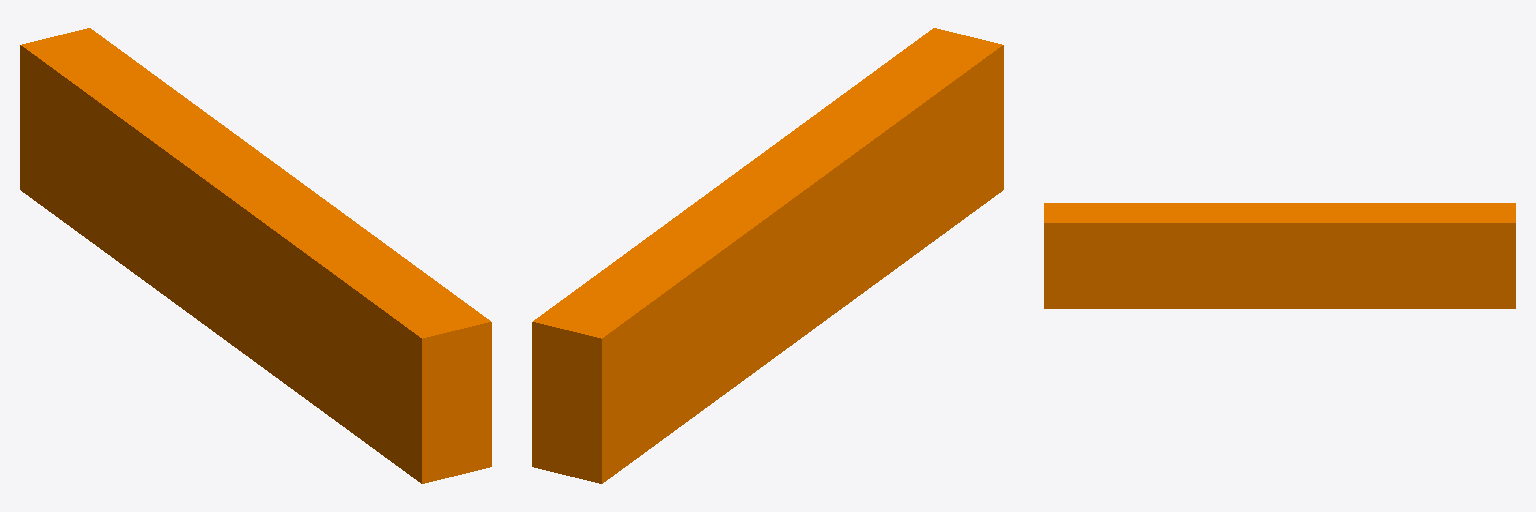
URDF robot description (wall_front_lower):
<?xml version="0.0" ?>
<robot name="wall_front_lower">
  <link name="base_link">
    <inertial>
      <origin rpy="0 0 0" xyz="0 0 0"/>
       <mass value=".1"/>
       <inertia ixx="1" ixy="0" ixz="0" iyy="1" iyz="0" izz="1"/>
    </inertial>
    
    <visual>
      <origin rpy="0 0 0" xyz="0 0 0"/>
      <geometry>
        <box size="0.1 1.0 0.2"/>
      </geometry>
      <material name="darkorange">
        <color rgba="1.0 0.549 0.0 1.0"/>
      </material>
    </visual>
  </link>
</robot>

--- Render facts (derived) ---
Views: 3 orthographic renders of the robot side by side, from view 1: azimuth 30°, elevation 25°; view 2: azimuth 150°, elevation 25°; view 3: azimuth 270°, elevation 25°.
Model wall_front_lower with 1 links and 0 joints (none), rooted at base_link, posed all joints at 0.
Visible links, largest first — view 1: base_link; view 2: base_link; view 3: base_link.
Link boxes in pixels (x1,y1,x2,y2): base_link: [20, 28, 491, 483]; base_link: [532, 28, 1003, 483]; base_link: [1044, 203, 1515, 308].
Bounding box of the posed robot: 0.1 × 1 × 0.2 m (x, y, z).
Geometry: primitives only (box / cylinder / sphere), no mesh files.